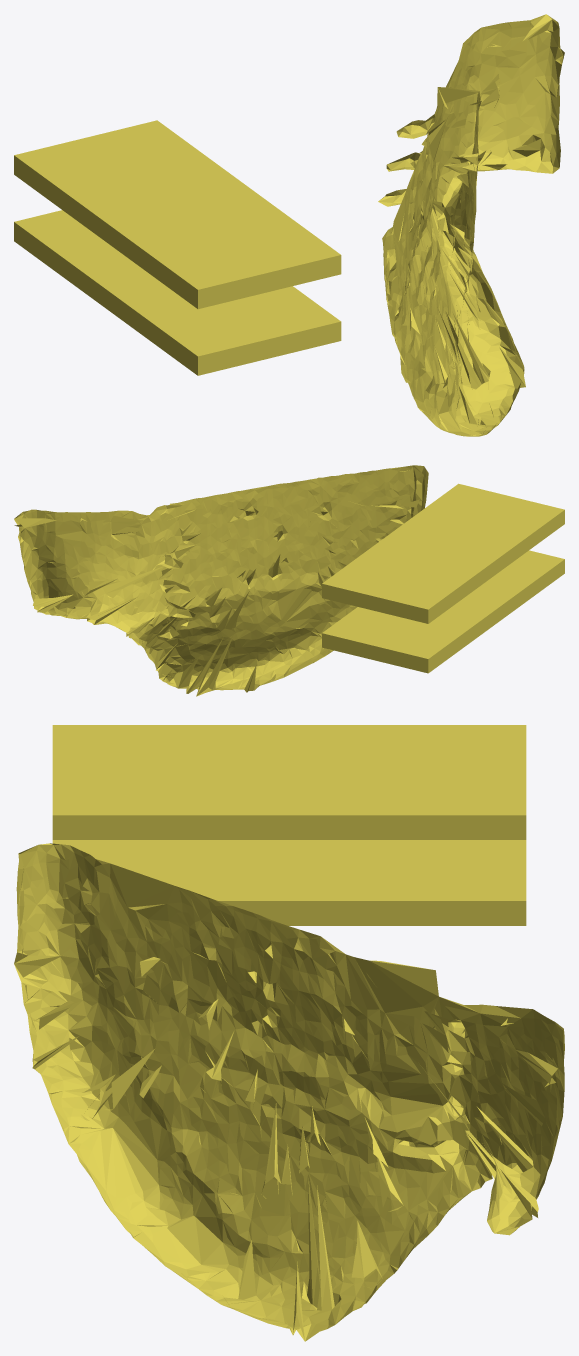
The model's file is improved.glb.
3 renders of one model, top to bottom at view 1: azimuth 30°, elevation 25°; view 2: azimuth 150°, elevation 25°; view 3: azimuth 270°, elevation 25°, orthographic. The views are drawn at different scales.
Visible parts, largest first — view 1: world; view 2: world; view 3: world.
Boxes of the visible parts, box(x1,y1,x2,y2) form: world: box(14, 14, 564, 436); world: box(14, 465, 564, 696); world: box(14, 725, 564, 1341).
Size of the model in its own units: 0.55 by 0.2642 by 0.3697.
